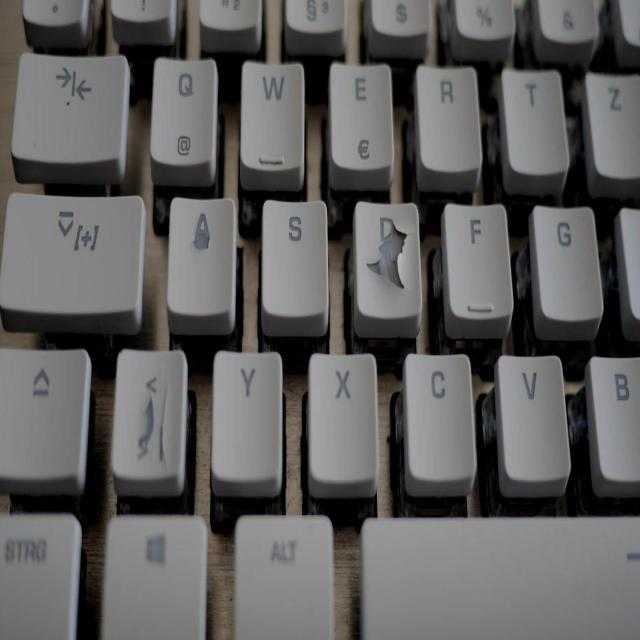a: (163, 188, 236, 330)
alt-left: (229, 507, 337, 640)
b: (585, 348, 640, 492)
c: (399, 344, 478, 493)
d: (348, 192, 423, 339)
e: (325, 57, 396, 190)
f: (438, 192, 515, 341)
g: (527, 195, 605, 338)
h: (613, 204, 640, 330)
less: (110, 341, 187, 496)
q: (147, 49, 219, 185)
r: (412, 58, 483, 186)
s: (256, 190, 331, 334)
shift-left: (0, 337, 92, 491)
shift-lock: (0, 186, 149, 323)
space: (360, 510, 640, 640)
strg-left: (0, 507, 80, 640)
t: (499, 61, 570, 186)
tab: (7, 45, 133, 170)
v: (493, 344, 573, 496)
w: (237, 53, 307, 181)
x: (304, 344, 380, 497)
y: (207, 342, 284, 497)
z: (581, 65, 640, 188)
